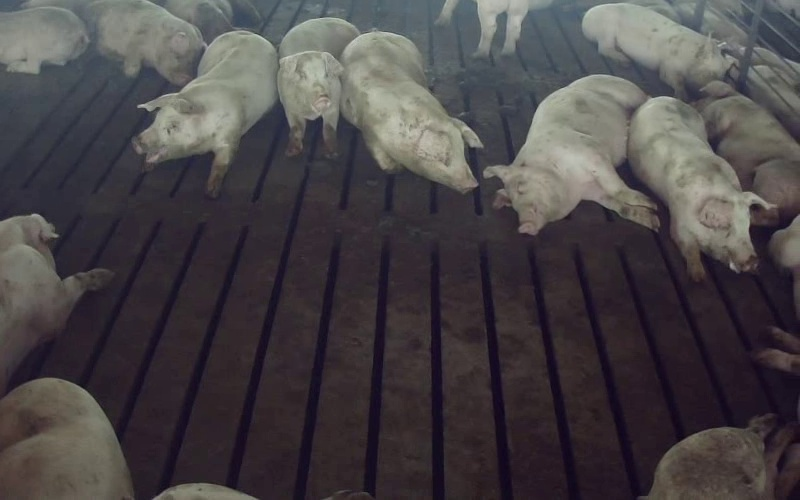pig: (484, 75, 659, 234), (628, 97, 773, 280), (132, 31, 277, 197), (340, 32, 482, 192), (0, 214, 113, 396), (694, 82, 799, 226), (582, 3, 730, 99), (277, 18, 359, 158), (85, 0, 205, 86), (0, 7, 88, 73)
